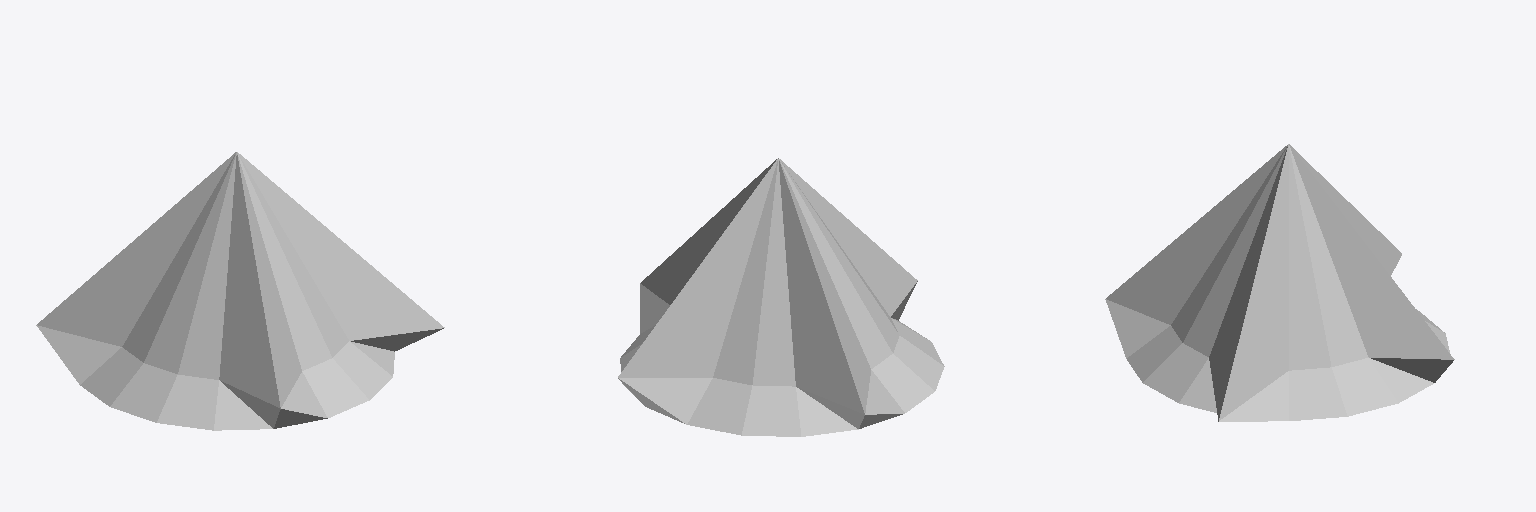
3 renders of one model, left to right at view 1: azimuth 30°, elevation 25°; view 2: azimuth 150°, elevation 25°; view 3: azimuth 270°, elevation 25°, orthographic.
Parts seen in each view (by area): view 1: CUPIC_ROCKETSHIP; view 2: CUPIC_ROCKETSHIP; view 3: CUPIC_ROCKETSHIP.
Boxes of the visible parts, <box> form: CUPIC_ROCKETSHIP: <box>36,152,444,430</box>; CUPIC_ROCKETSHIP: <box>618,158,944,436</box>; CUPIC_ROCKETSHIP: <box>1105,144,1454,421</box>.
Size of the model in its own units: 8.6 by 5.45 by 8.21.